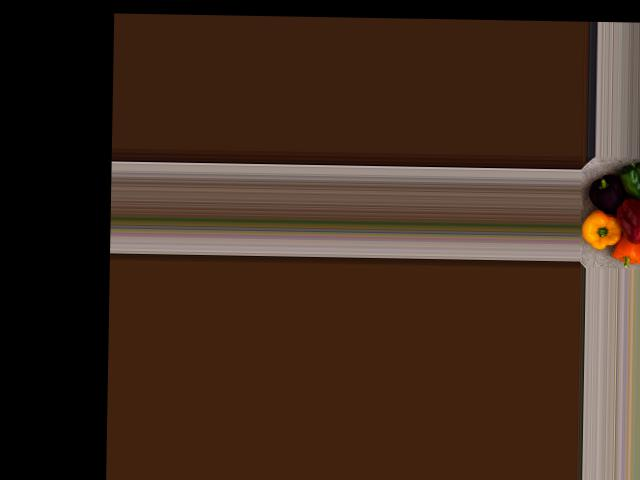bell_pepper: (590, 164, 633, 215)
